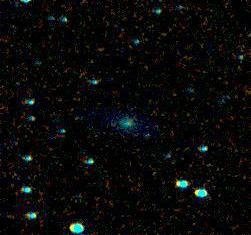star: (87, 34, 117, 64)
